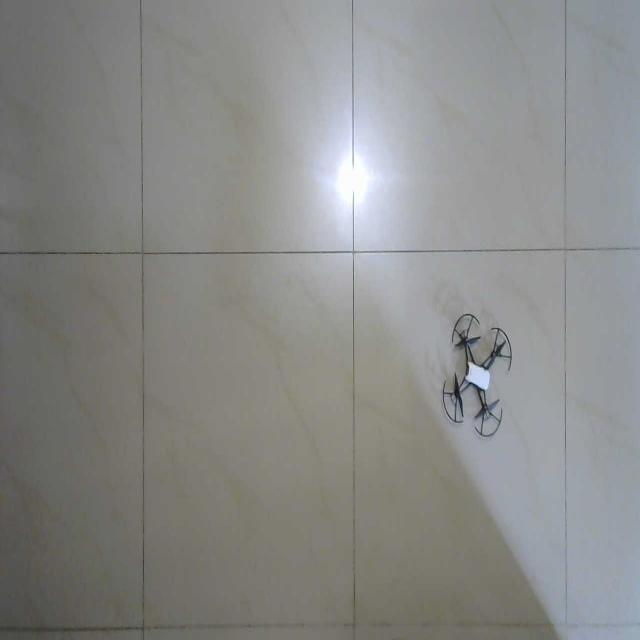drone: (442, 313, 512, 439)
